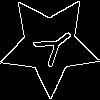Y: (25, 20, 79, 74)
